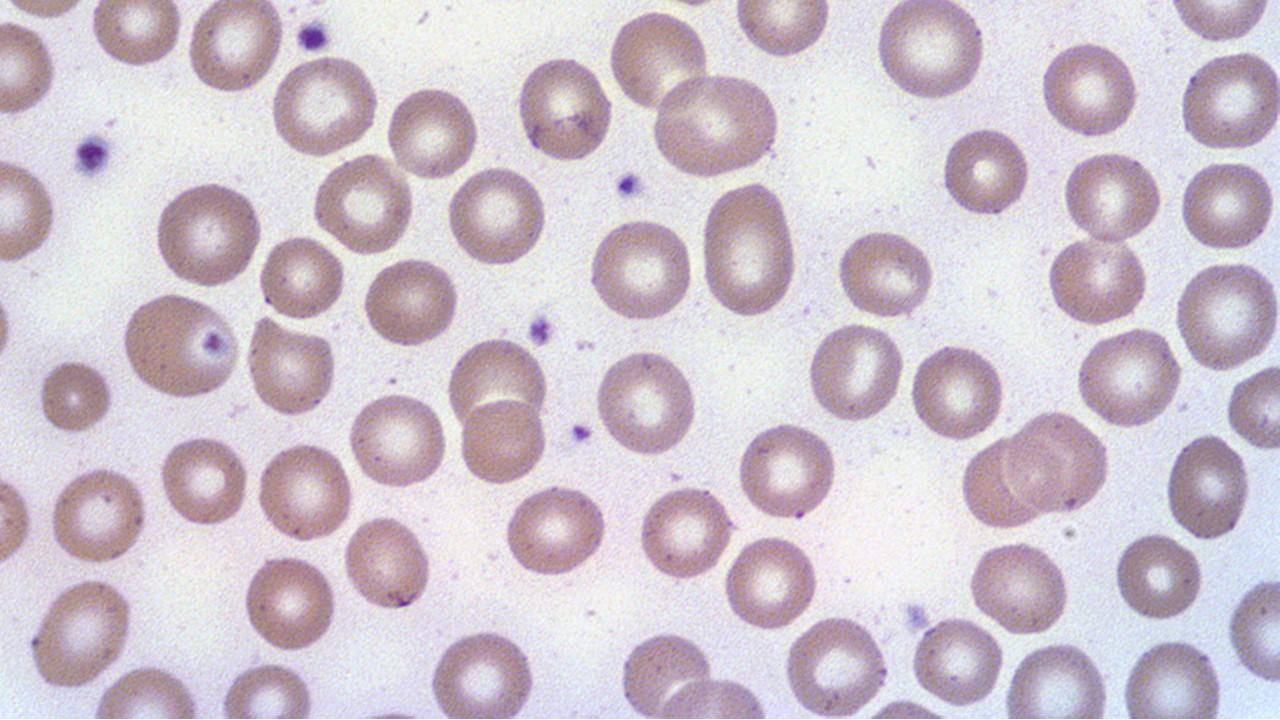Platelets: (68, 131, 119, 183), (292, 16, 335, 57), (524, 308, 558, 348), (900, 596, 934, 634), (612, 168, 646, 202), (564, 418, 594, 448)
RBC: (646, 69, 782, 181), (697, 177, 801, 321), (118, 289, 243, 402), (150, 174, 266, 291), (25, 574, 138, 692), (1171, 256, 1279, 372), (586, 213, 696, 325), (592, 346, 700, 460), (267, 52, 381, 159), (872, 0, 988, 104), (1072, 324, 1184, 431), (512, 51, 616, 166), (606, 6, 713, 116), (1004, 409, 1111, 516), (1175, 46, 1279, 156), (45, 462, 151, 568), (310, 152, 417, 257), (734, 418, 841, 523), (783, 612, 891, 716), (444, 163, 550, 268), (252, 438, 356, 544), (1037, 37, 1143, 141), (426, 623, 541, 718), (806, 320, 908, 427), (346, 388, 450, 492), (446, 334, 554, 434), (239, 550, 340, 656), (966, 537, 1073, 637), (501, 481, 609, 580), (720, 530, 822, 634), (907, 339, 1006, 445), (634, 480, 734, 584), (1060, 146, 1164, 246), (1044, 232, 1150, 329), (244, 313, 340, 420), (1163, 430, 1253, 543), (1176, 157, 1278, 256), (183, 1, 287, 98), (383, 81, 480, 183), (909, 612, 1007, 712), (360, 254, 462, 350), (832, 227, 938, 319), (340, 511, 434, 614), (958, 433, 1052, 532), (157, 430, 250, 530), (1110, 528, 1206, 624), (938, 124, 1034, 220), (1117, 635, 1229, 717), (1002, 637, 1113, 718), (456, 395, 549, 489), (621, 626, 717, 717), (256, 232, 346, 322), (88, 658, 204, 720), (1, 151, 60, 269), (36, 354, 117, 439), (88, 1, 184, 72), (217, 656, 320, 719), (0, 16, 60, 122), (1225, 572, 1279, 686), (732, 2, 832, 63), (654, 673, 774, 718), (1224, 362, 1280, 452), (1166, 2, 1276, 45), (0, 462, 34, 581), (0, 250, 18, 396)
